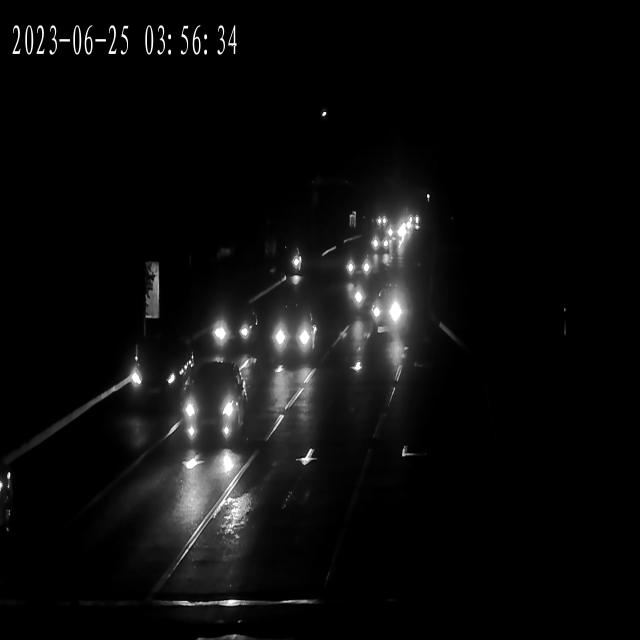Car: (178, 367, 250, 451), (136, 336, 198, 406), (263, 306, 320, 367), (349, 276, 409, 331), (207, 300, 264, 352), (336, 247, 374, 280), (366, 234, 389, 256), (384, 223, 406, 240), (385, 226, 404, 243), (373, 214, 390, 228)
